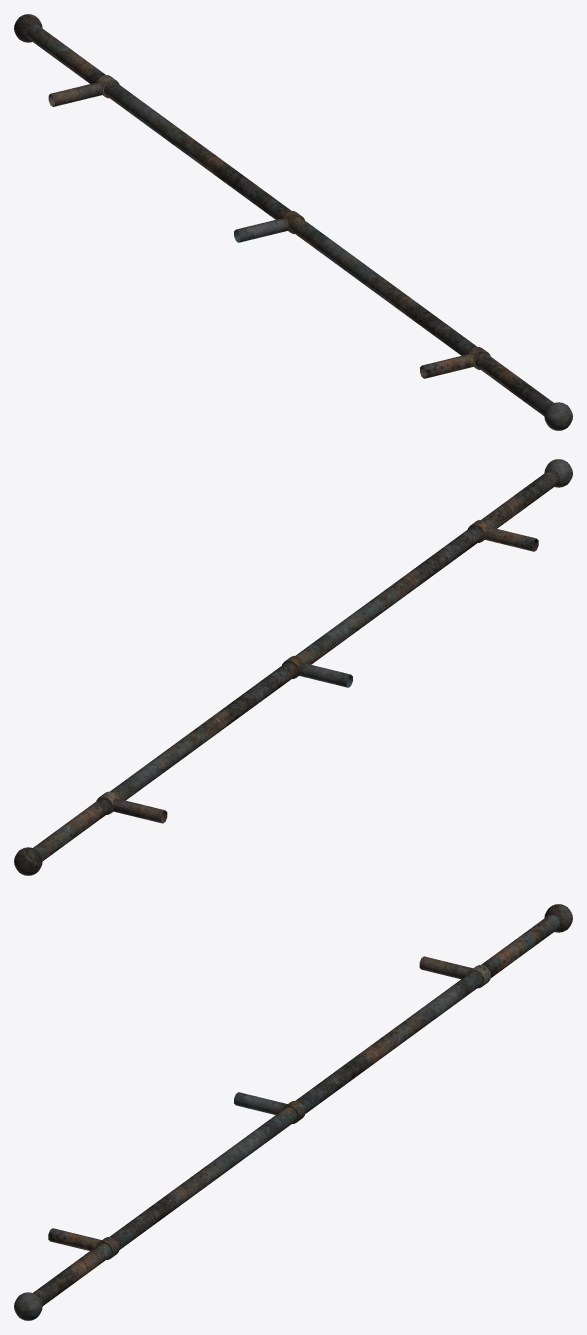
Rendered from Guard_Rail_4m.glb.
3 views of the same model, one above another, from view 1: azimuth 30°, elevation 25°; view 2: azimuth 150°, elevation 25°; view 3: azimuth 330°, elevation 25° (orthographic).
Parts seen in each view (by area): view 1: Guard_Rail_4m; view 2: Guard_Rail_4m; view 3: Guard_Rail_4m.
Boxes of the visible parts, x1,y1,x2,y2 form: Guard_Rail_4m: (14, 14, 572, 430); Guard_Rail_4m: (14, 459, 572, 875); Guard_Rail_4m: (14, 904, 572, 1320).
Bounding box in the file's own units: 0.2848 × 0.1028 × 3.91.
1 material, 1 textured.
